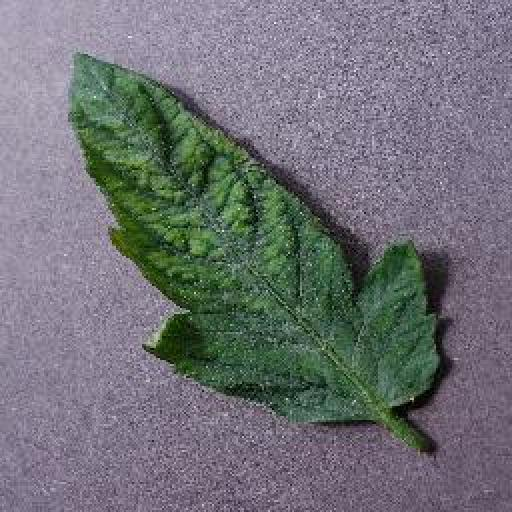disease_tomato: (67, 49, 449, 427)
